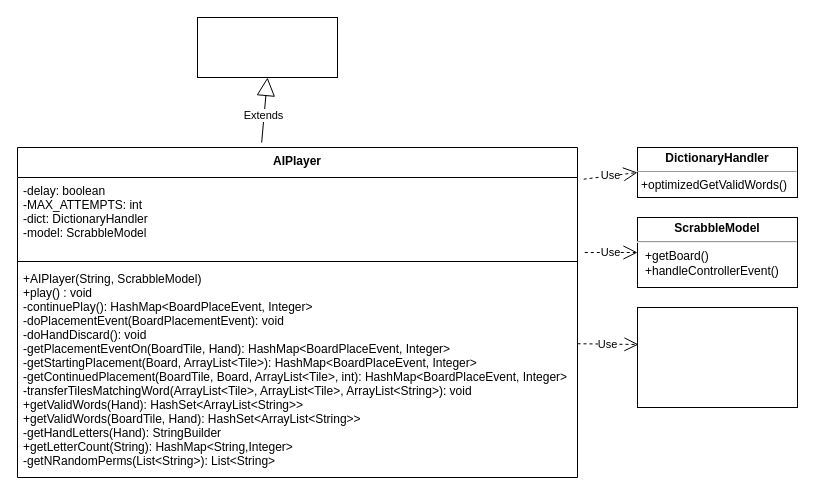
This 815x498 diagram has some shape labels left out. Each missing label, with the centre of its shape:
Board +isBoardEmpty() +isPlacementValid() +getBoardTiles() +getPlacementScore(): the point at 717,357
Player + getHand() ...: the point at 267,47
